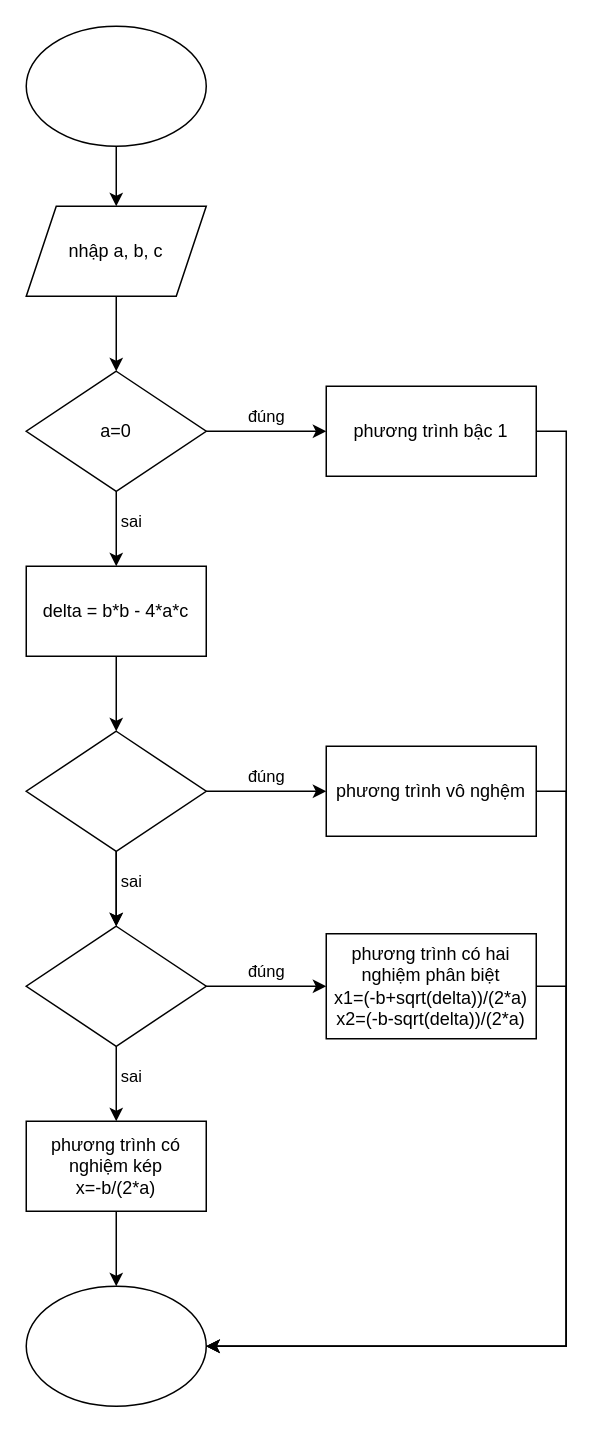
This 605x1433 diagram has some shape labels left out. The centre of each missing label's shape, as x and y in pixels:
"delta < 0" belongs at pixel 115 790.
"delta > 0" belongs at pixel 115 985.
"end" belongs at pixel 115 1345.
"start" belongs at pixel 115 85.
